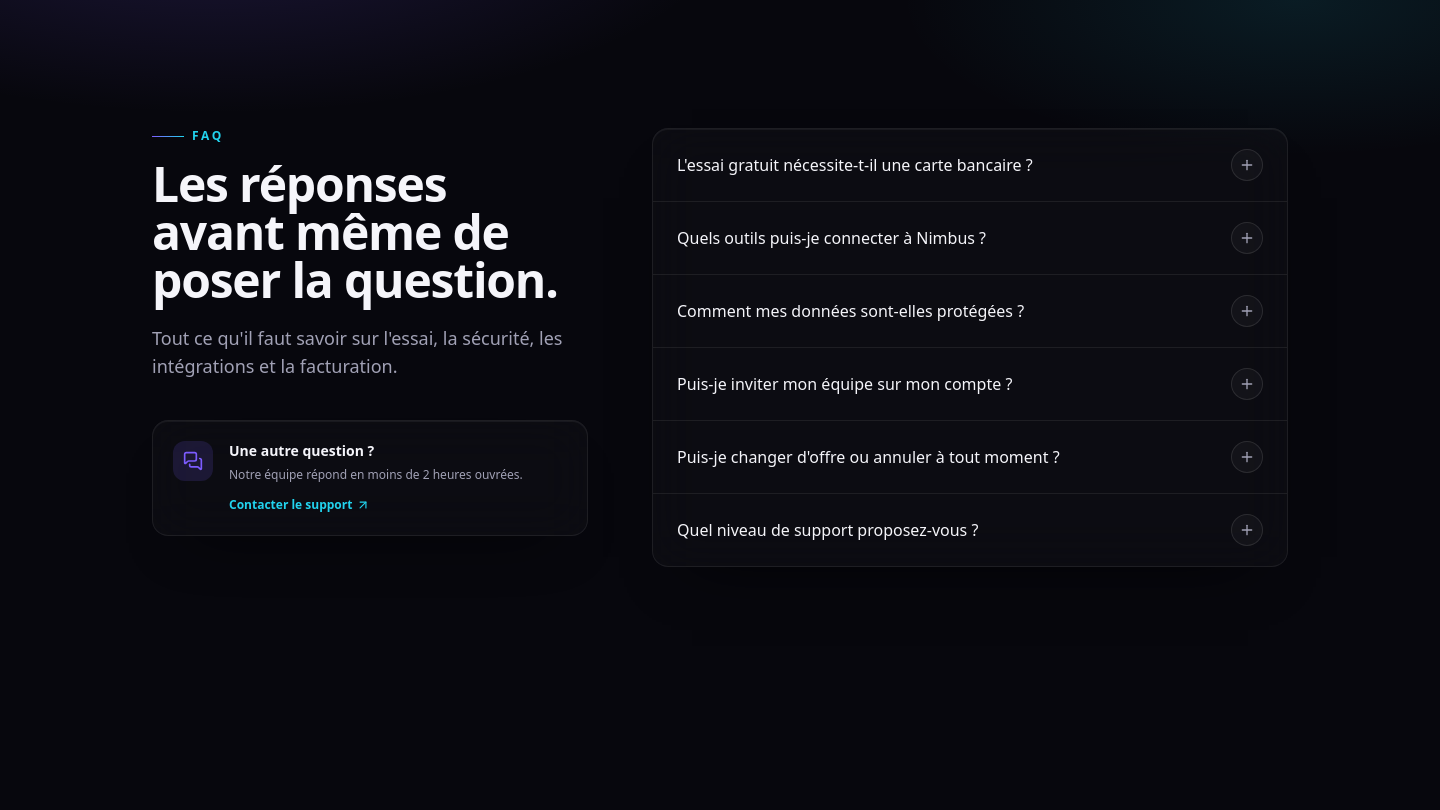
it: Faq (accordéon) › ne laisse qu'une seule question ouverte à la fois
What coordinates should you click on to do the following:
click the button "L'essai gratuit nécessite-t-il une carte bancaire ?"
I would click on:
 (970, 165)
Its box is [653,129,1287,201].
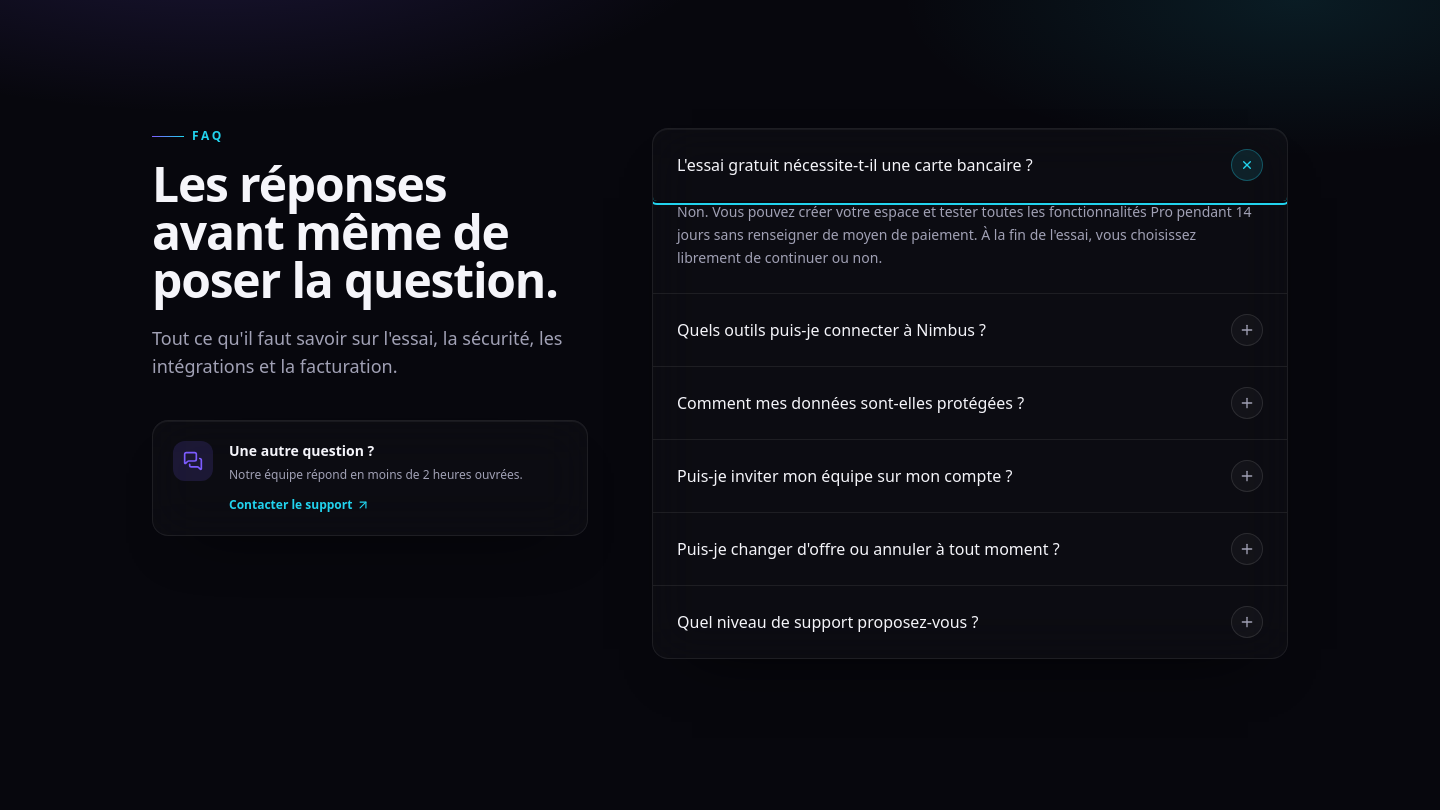
What coordinates should you click on to do the following:
click the button "Quels outils puis-je connecter à Nimbus ?"
I would click on:
 (970, 330)
Its box is [653,294,1287,366].
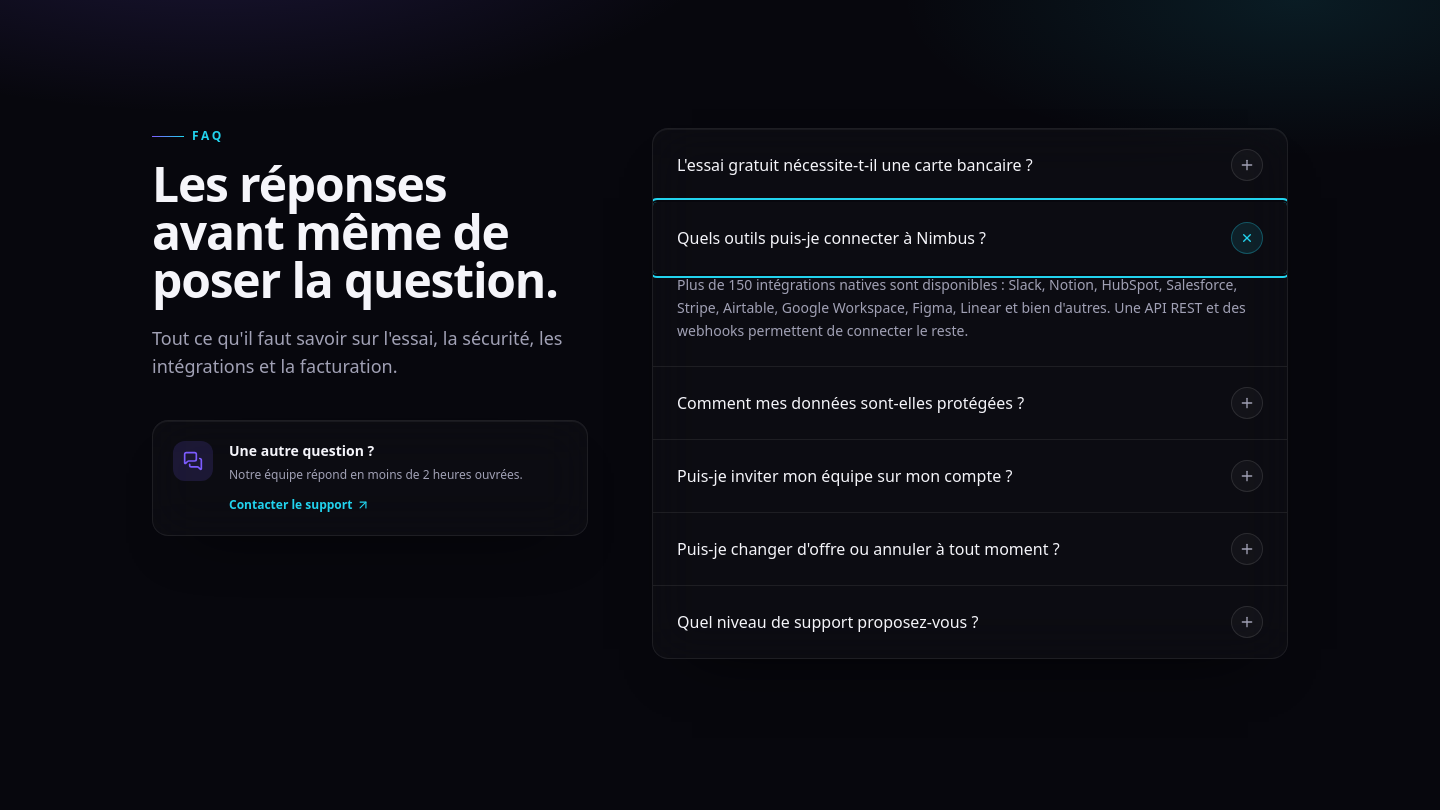
Expected: the button "L'essai gratuit nécessite-t-il une carte bancaire ?" is collapsed, [653,129,1287,201]
Expected: the button "Quels outils puis-je connecter à Nimbus ?" is expanded, [653,202,1287,274]
